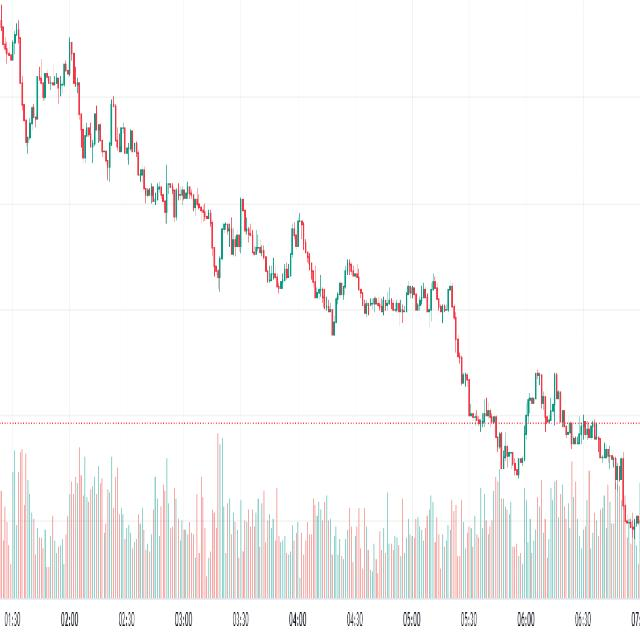Falling-Wedge: (517, 331, 627, 497)
rectangle: (359, 273, 409, 335)
